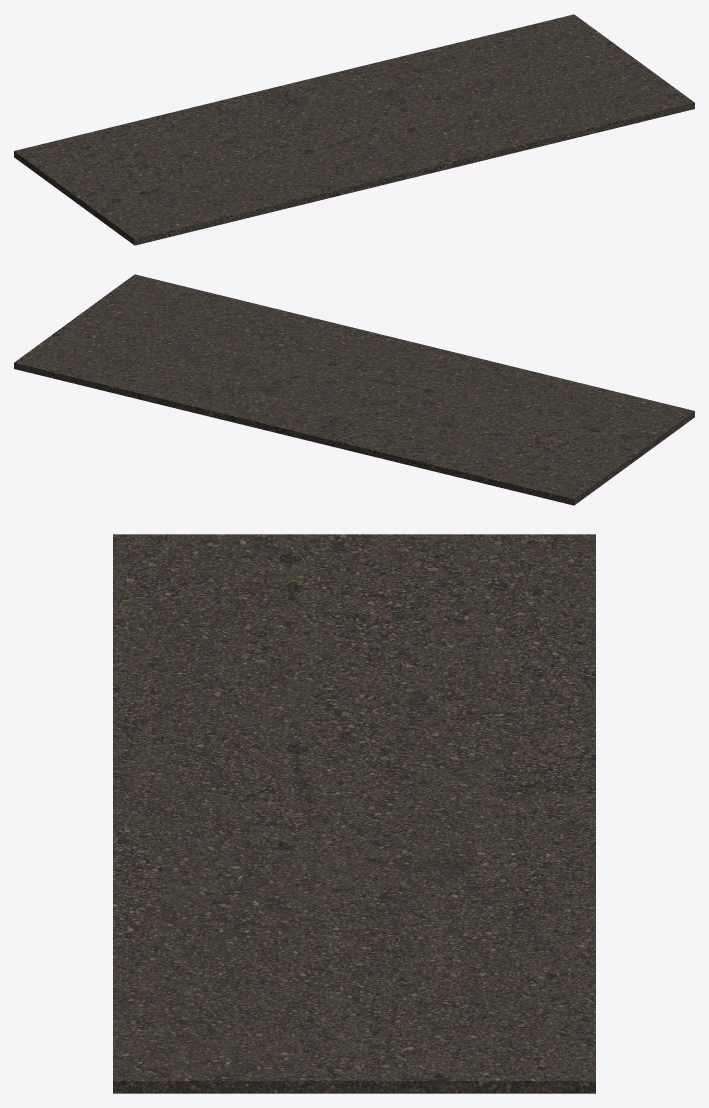
The model's file is Flooring2.obj.
3 renders of one model, top to bottom at view 1: azimuth 30°, elevation 25°; view 2: azimuth 150°, elevation 25°; view 3: azimuth 270°, elevation 25°, orthographic. The views are drawn at different scales.
Visible parts, largest first — view 1: Plane.002; view 2: Plane.002; view 3: Plane.002.
Boxes of the visible parts, bbox=[...] form: Plane.002: bbox=[14, 14, 694, 245]; Plane.002: bbox=[14, 274, 694, 505]; Plane.002: bbox=[113, 534, 595, 1093].
Bounding box in the file's own units: 6.96 × 0.0743 × 2.6.
Materials: 1 (1 with a texture image).
